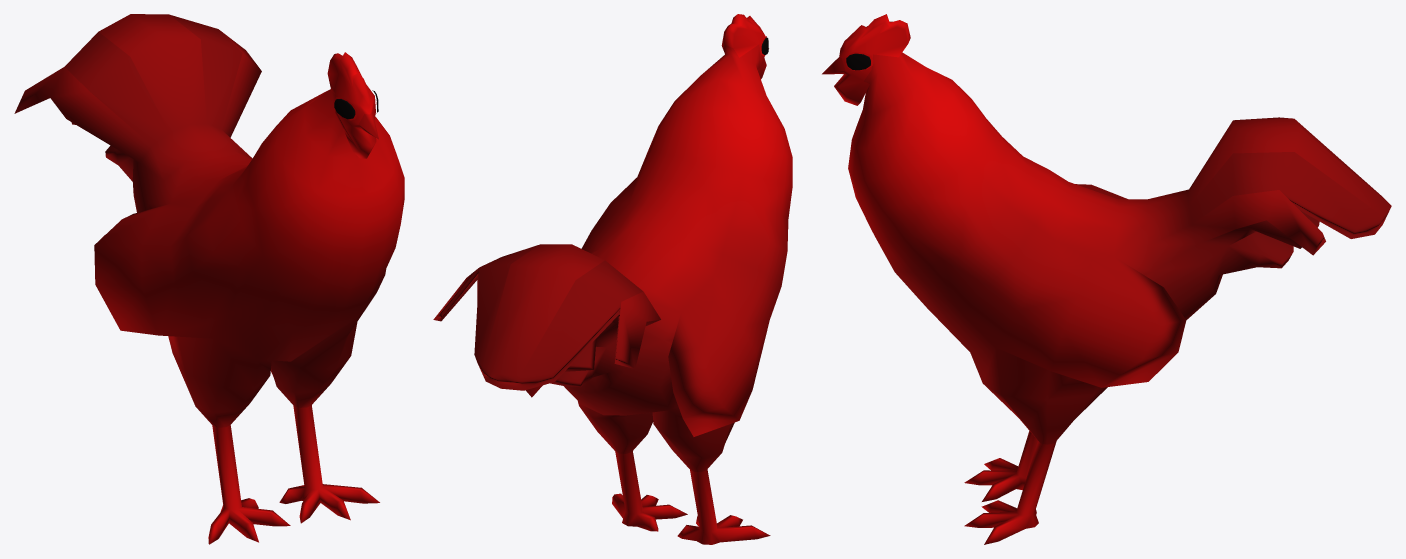
The model's file is chicken.glb.
3 renders of one model, left to right at view 1: azimuth 30°, elevation 25°; view 2: azimuth 150°, elevation 25°; view 3: azimuth 270°, elevation 25°, orthographic. The views are drawn at different scales.
Parts seen in each view (by area): view 1: alt612; view 2: alt612; view 3: alt612.
Boxes of the visible parts, x1=… form: alt612: x1=14, y1=14, x2=404, y2=544; alt612: x1=433, y1=14, x2=792, y2=544; alt612: x1=822, y1=14, x2=1391, y2=544.
Bounding box in the file's own units: 29.97 × 62.21 × 65.58.
